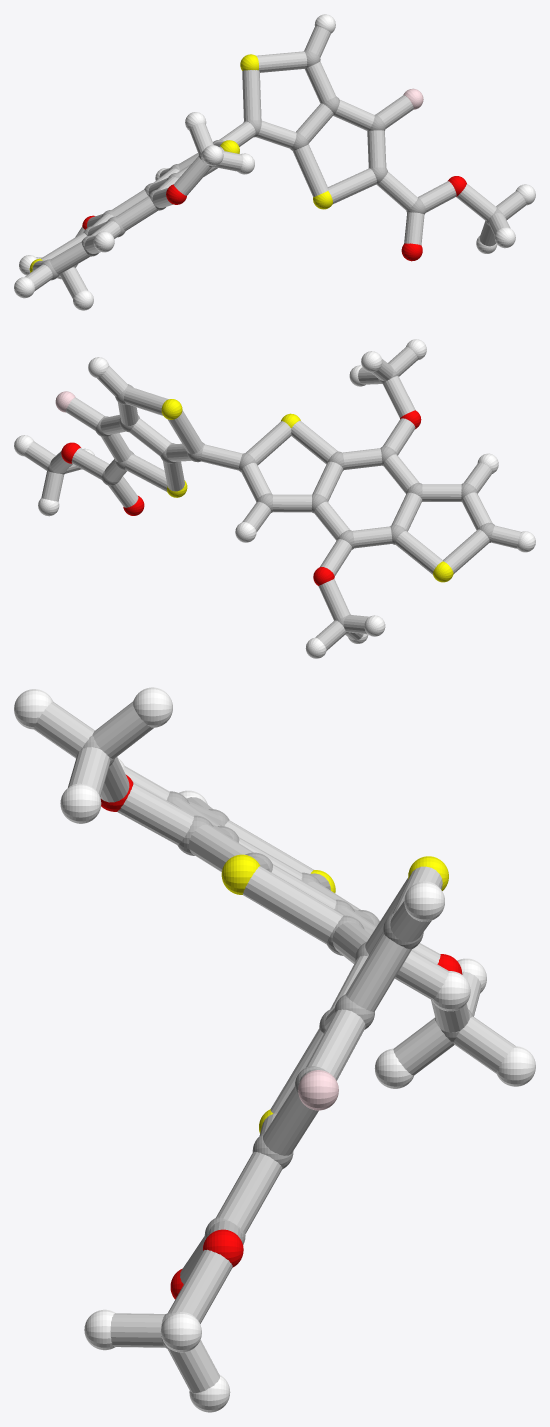
The model's file is Dimethoxy_Benzodithiophene_Phi_20_Theta_90_Methylcarbonyl_3_Fluoro_Thienothiophene.glb.
3 renders of one model, top to bottom at view 1: azimuth 30°, elevation 25°; view 2: azimuth 150°, elevation 25°; view 3: azimuth 270°, elevation 25°, orthographic. The views are drawn at different scales.
Parts seen in each view (by area): view 1: grp15205, grp8689, grp1, grp13395, grp7241; view 2: grp15205, grp8689, grp1, grp7241, grp13395; view 3: grp15205, grp8689, grp1, grp7241, grp13395, grp14843.
Part boxes in pixels (<box>): grp15205: <box>25,26,526,298</box>; grp8689: <box>14,14,535,310</box>; grp1: <box>40,50,503,280</box>; grp13395: <box>82,176,466,261</box>; grp7241: <box>29,54,332,272</box>; grp15205: <box>24,346,521,650</box>; grp8689: <box>14,339,535,658</box>; grp1: <box>47,368,494,633</box>; grp7241: <box>161,399,453,582</box>; grp13395: <box>61,410,421,585</box>; grp15205: <box>33,701,515,1392</box>; grp8689: <box>14,687,535,1412</box>; grp1: <box>81,734,473,1349</box>; grp7241: <box>221,854,448,1133</box>; grp13395: <box>100,775,462,1299</box>; grp14843: <box>298,1070,338,1110</box>.
Size of the model in its own units: 16.89 by 7.2 by 7.67.
